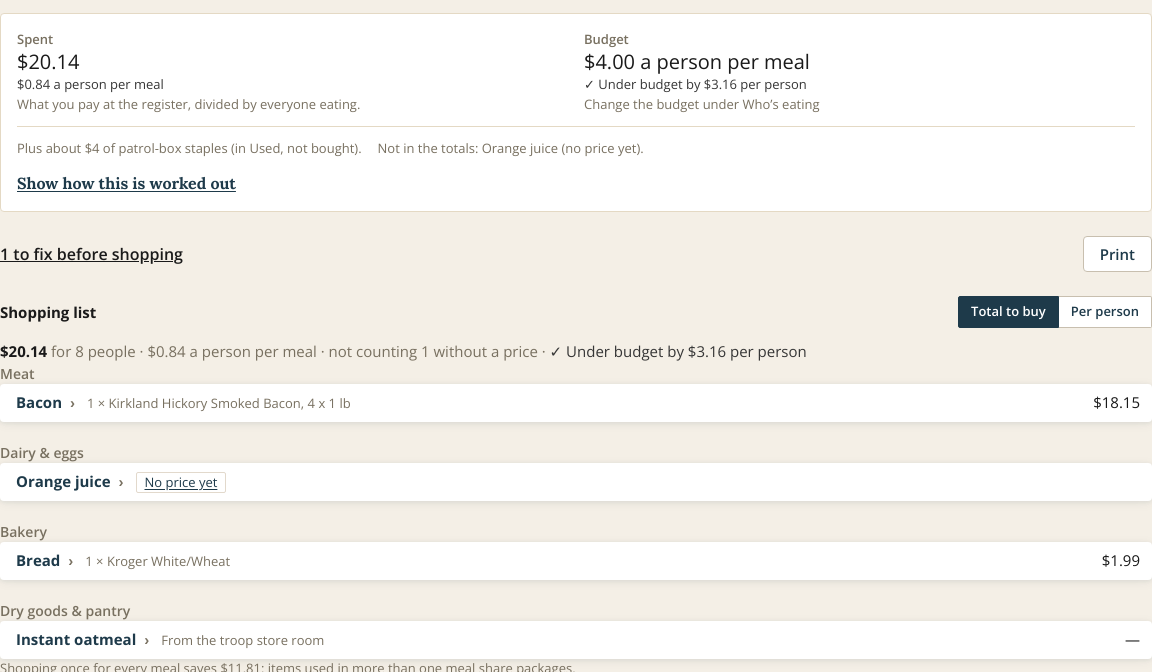
Test: ShoppingTab › rows › NoPriceYet_OpensTheAddPackageForm
Click the button "No price yet": (181, 483) [136, 472, 226, 493]
(page scrolled)
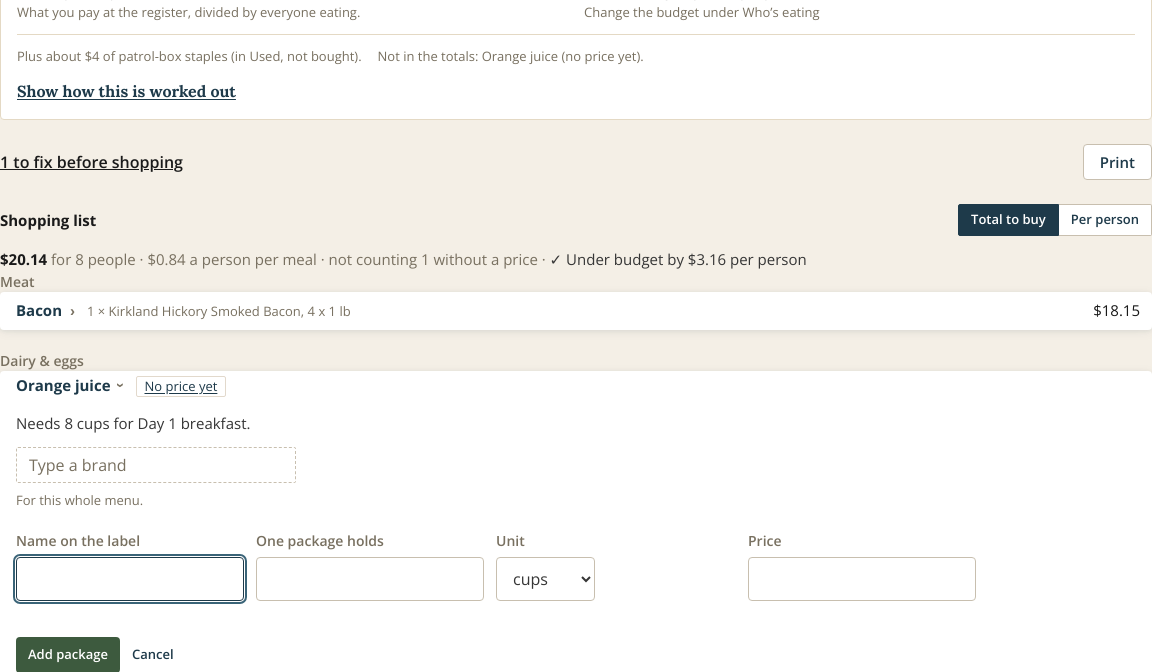
Check: the element named "New package of Orange juice" is shown, box [16, 530, 1124, 671]
